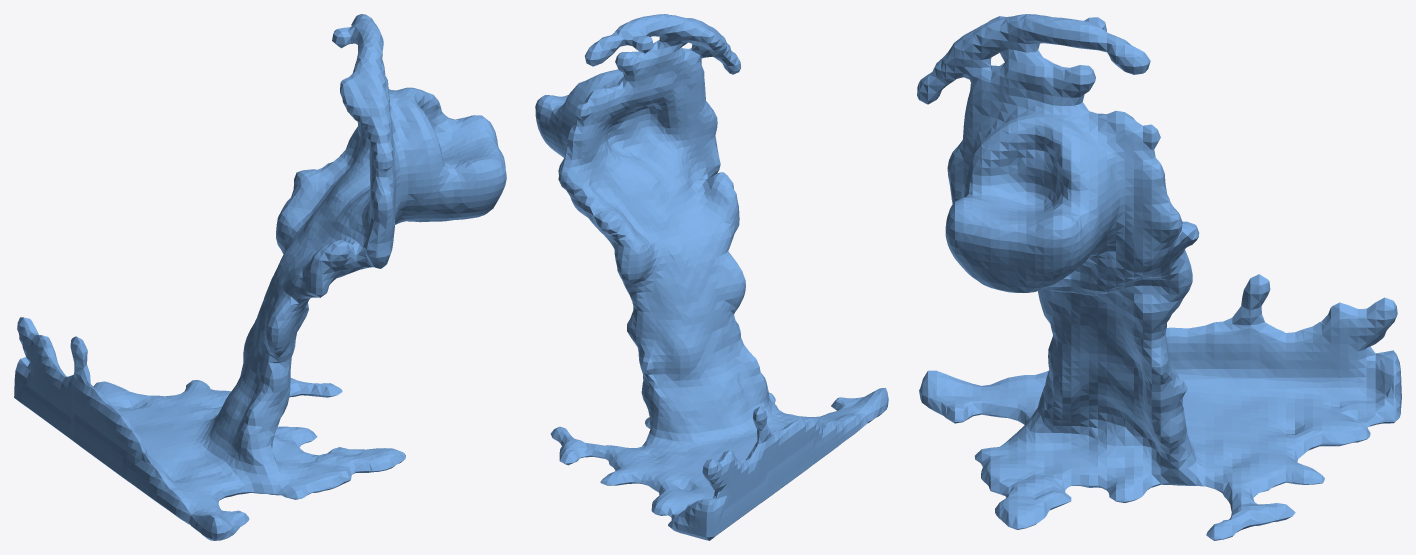
Rendered from water_0039.glb.
The picture shows the model from 3 angles, left to right: view 1: azimuth 30°, elevation 25°; view 2: azimuth 150°, elevation 25°; view 3: azimuth 270°, elevation 25°; orthographic projection. The views are drawn at different scales.
Visible parts, largest first — view 1: Water_0039; view 2: Water_0039; view 3: Water_0039.
Boxes of the visible parts, box(x1,y1,x2,y2) form: Water_0039: box(14, 14, 506, 540); Water_0039: box(535, 14, 888, 540); Water_0039: box(917, 14, 1401, 540).
Bounding box in the file's own units: 3.04 × 3.65 × 3.16.
